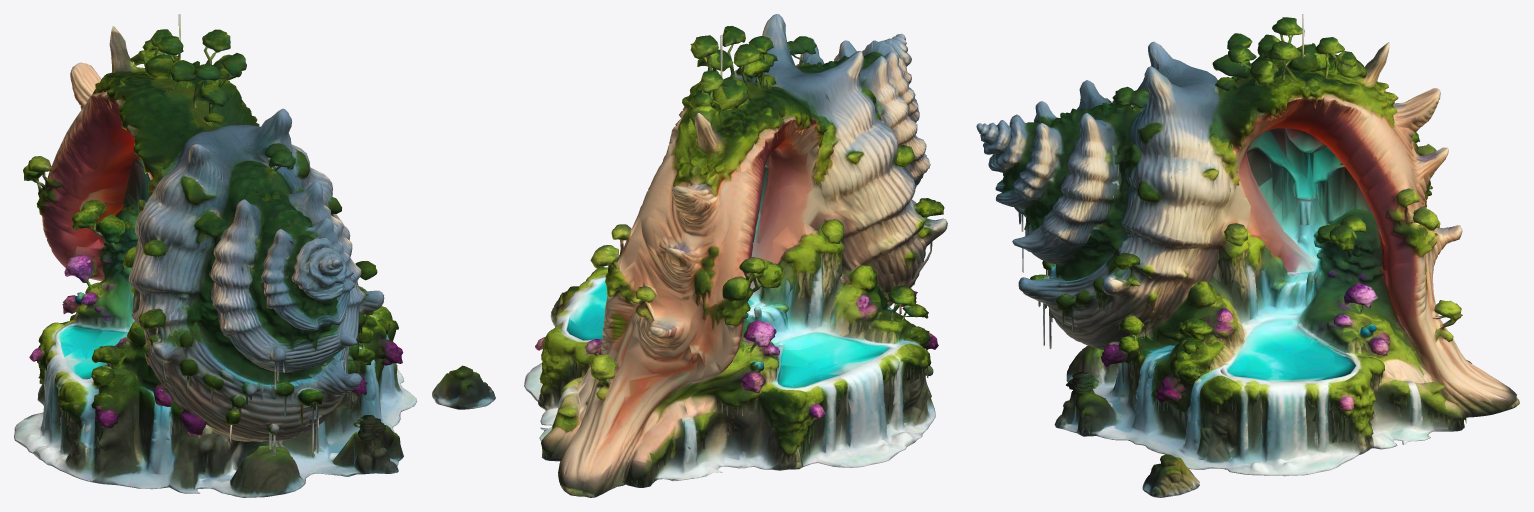
3 renders of one model, left to right at view 1: azimuth 30°, elevation 25°; view 2: azimuth 150°, elevation 25°; view 3: azimuth 270°, elevation 25°, orthographic. The views are drawn at different scales.
Parts seen in each view (by area): view 1: Untitled_3; view 2: Untitled_3; view 3: Untitled_3.
Boxes of the visible parts, x1,y1,x2,y2 form: Untitled_3: [14, 14, 495, 497]; Untitled_3: [524, 14, 947, 497]; Untitled_3: [976, 14, 1519, 497].
Bounding box in the file's own units: 1.67 × 1.51 × 2.
Materials: 1 (1 with a texture image).
